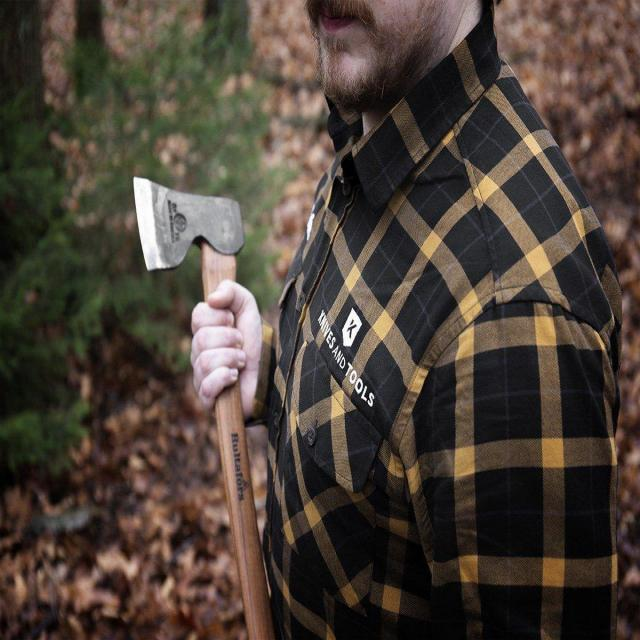axe: (131, 174, 273, 640)
